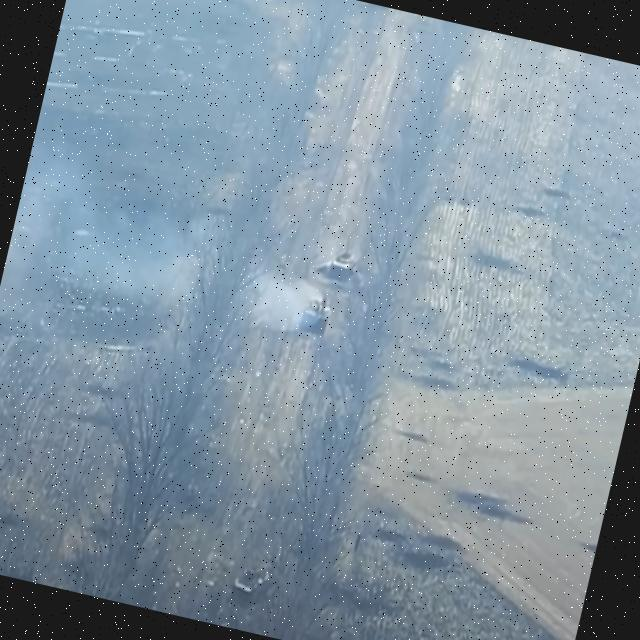AIFV: (228, 557, 273, 611), (327, 246, 363, 287)
MBT: (297, 293, 336, 339)
